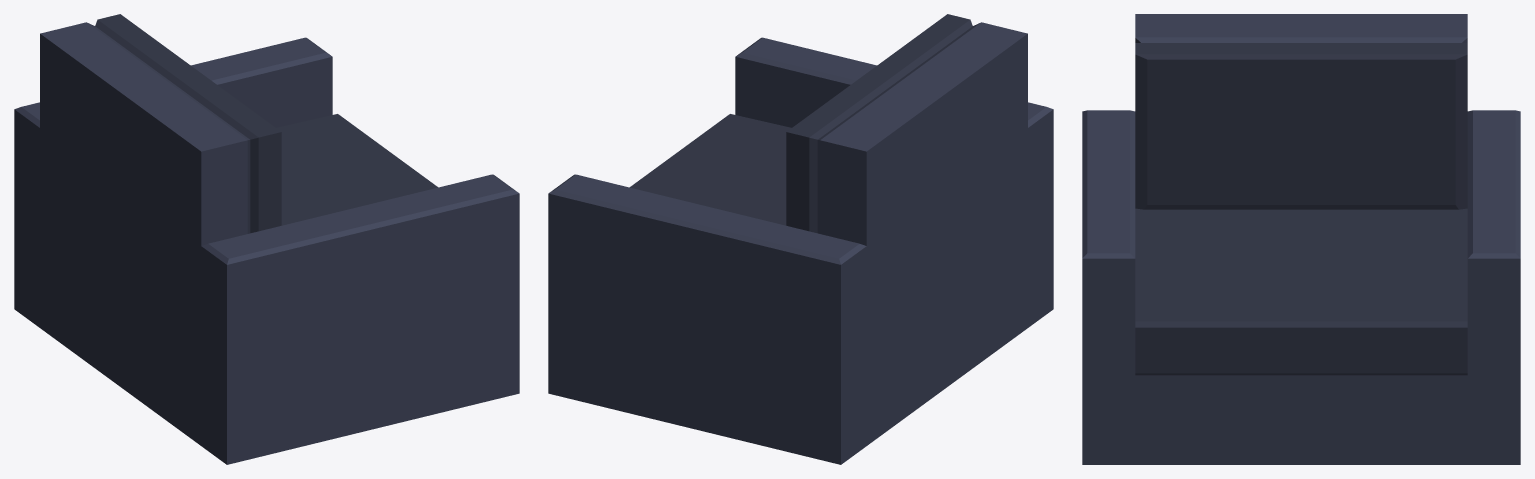
The model's file is MiniSofaWithoutLegs.obj.
3 views of the same model, side by side, from view 1: azimuth 30°, elevation 25°; view 2: azimuth 150°, elevation 25°; view 3: azimuth 270°, elevation 25° (orthographic). The views are drawn at different scales.
Parts seen in each view (by area): view 1: MiniSofaWithoutLegs_Cube.009; view 2: MiniSofaWithoutLegs_Cube.009; view 3: MiniSofaWithoutLegs_Cube.009.
Part boxes in pixels (x1,y1,x2,y2): MiniSofaWithoutLegs_Cube.009: [14, 14, 519, 464]; MiniSofaWithoutLegs_Cube.009: [548, 14, 1053, 464]; MiniSofaWithoutLegs_Cube.009: [1082, 14, 1520, 464].
Size of the model in its own units: 1.17 by 1.1 by 1.43.
